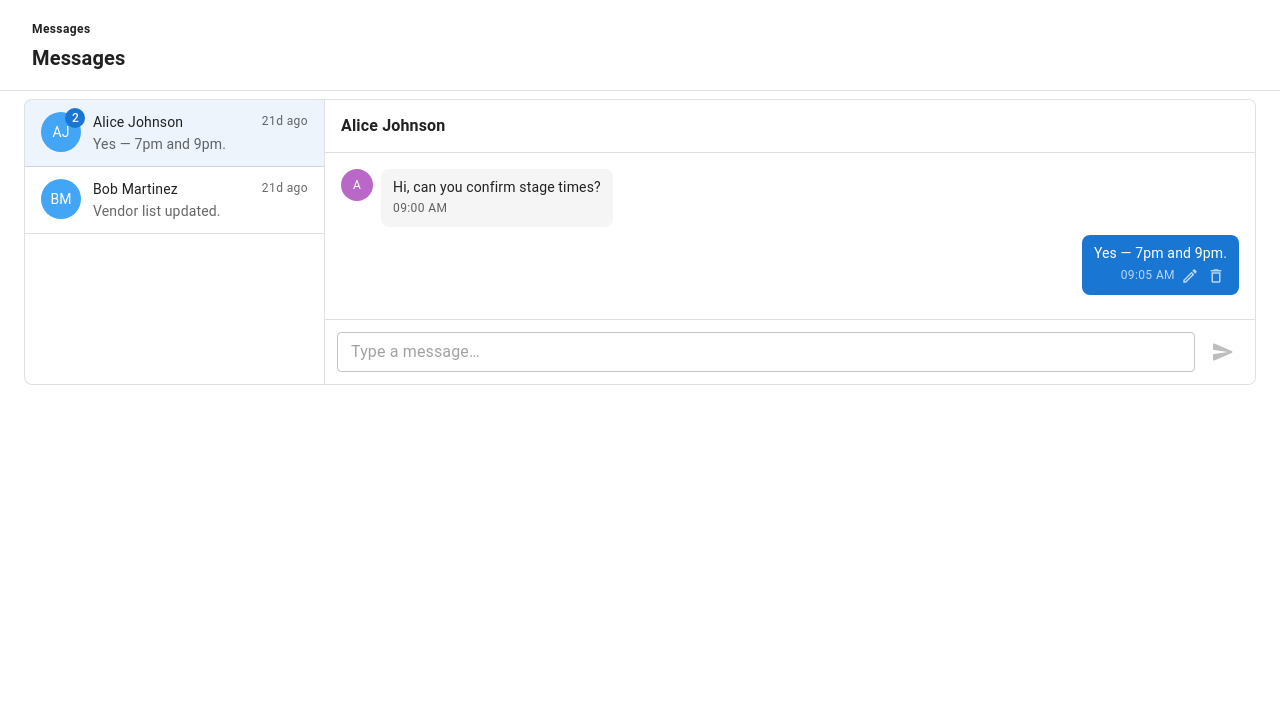
Scenario: MessagesInbox › deletes an own message after confirming the dialog
Click the button named "Delete message msg-own" at (1216, 276), box left=1205, top=265, right=1227, bottom=287
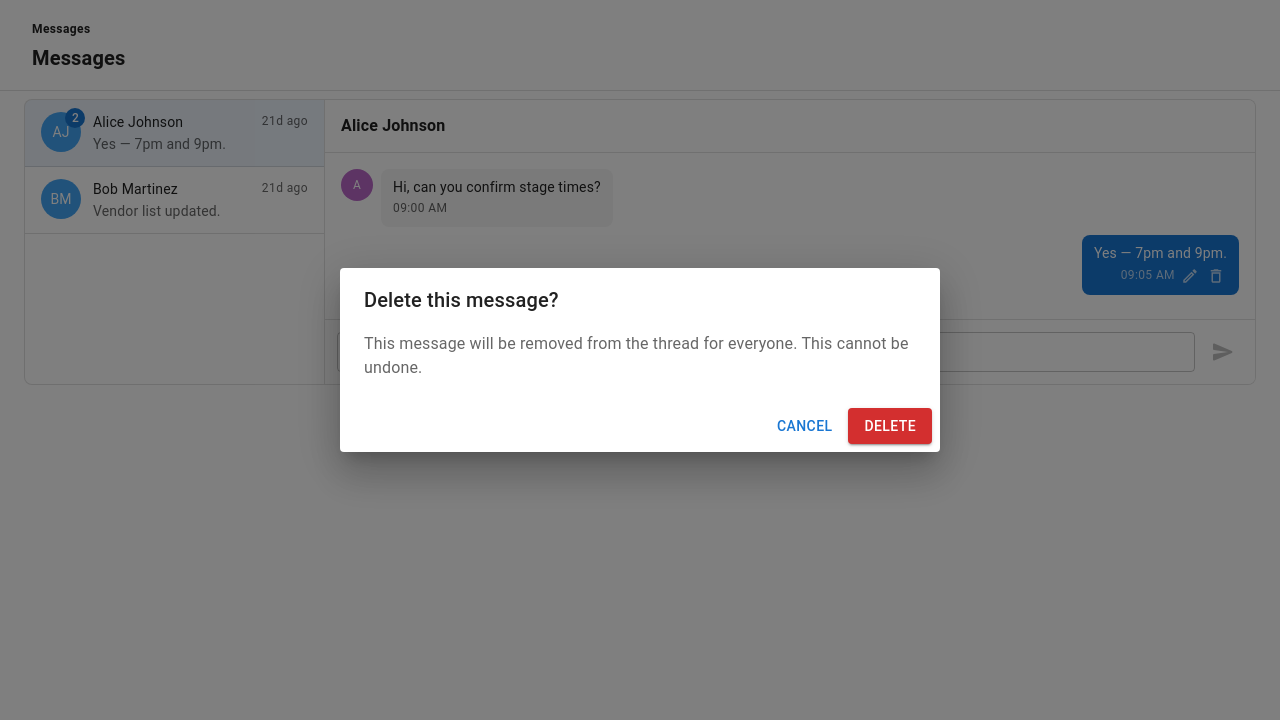
Click the button "Delete" at (890, 426), box left=848, top=408, right=932, bottom=444
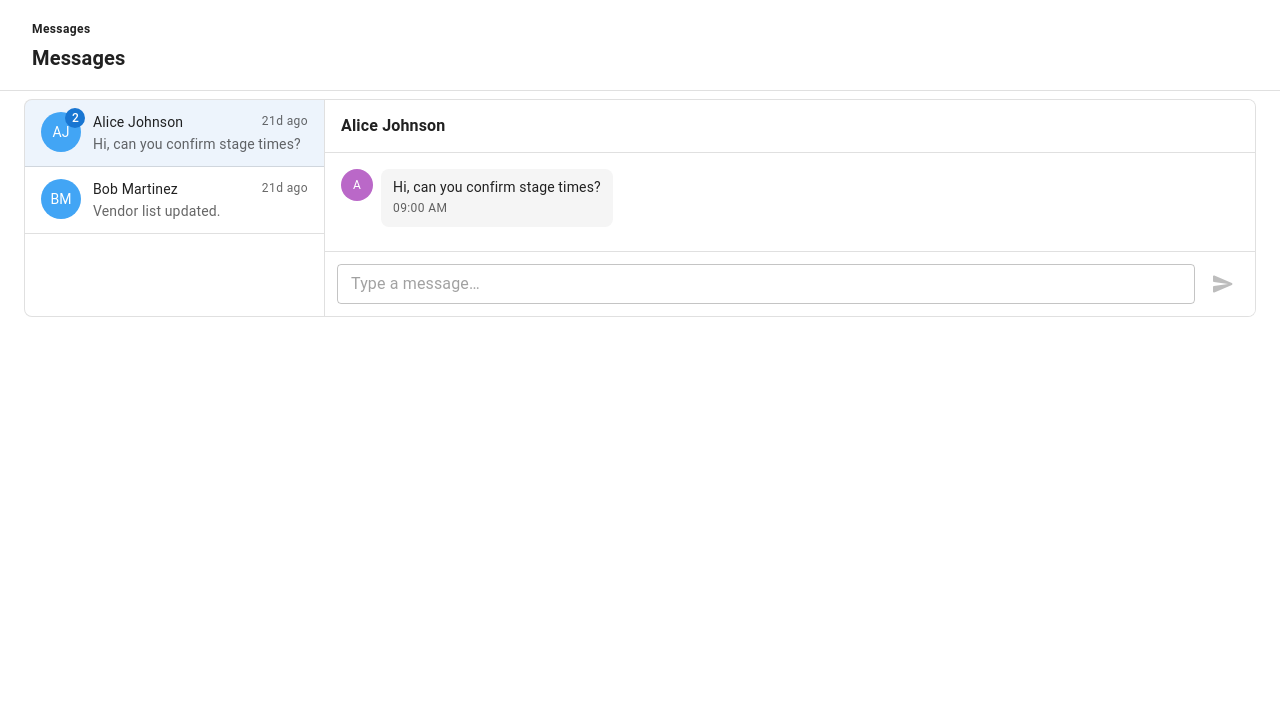
Check: the button "Yes — 7pm and 9pm." is gone
